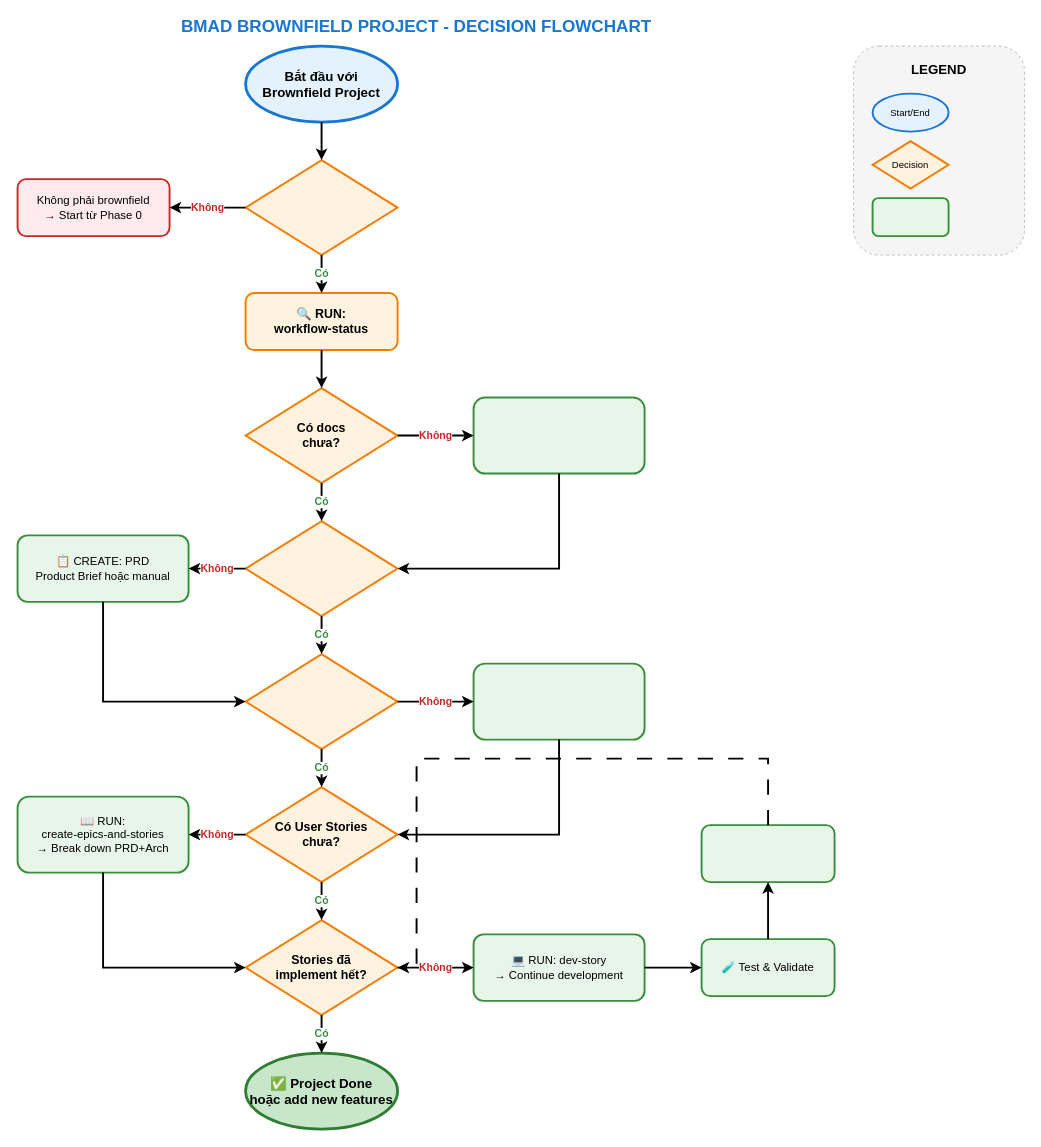
This 1041x1147 diagram has some shape labels left out. Here are the shapes that lost their labels. From the top down, the centre of each, then its label:
At (x=321, y=207): "Có CODE chưa?".
At (x=910, y=217): "Action".
At (x=558, y=435): "📝 RUN: document-project → Tạo project-context.md".
At (x=321, y=568): "Có PRD chưa?".
At (x=321, y=701): "Có Architecture docs chưa?".
At (x=558, y=701): "🏗️ CREATE: Architecture Document current state".
At (x=767, y=853): "🚀 Ship Feature".
